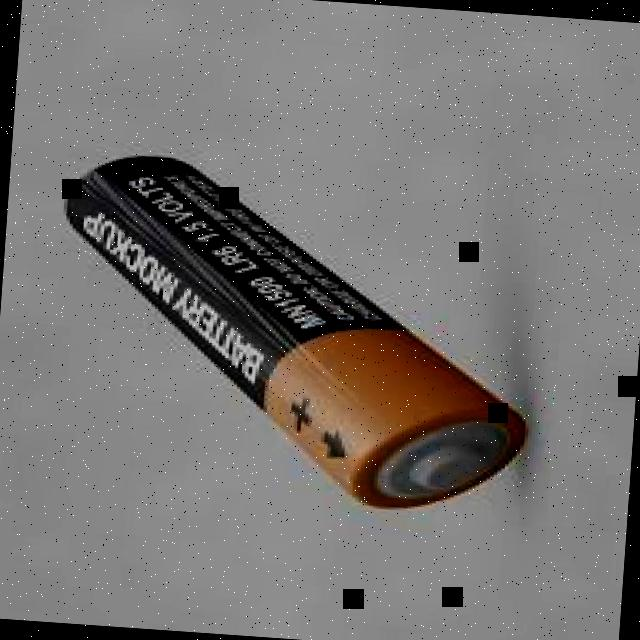battery: (66, 155, 528, 508)
